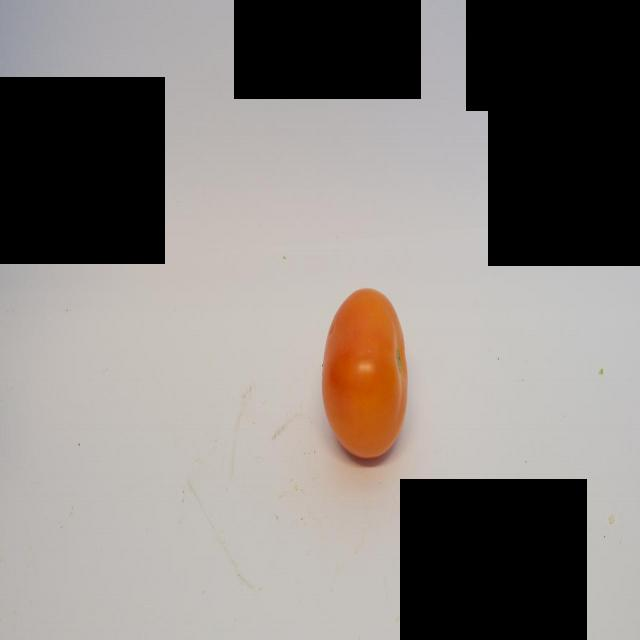tomato: (322, 278, 412, 466)
